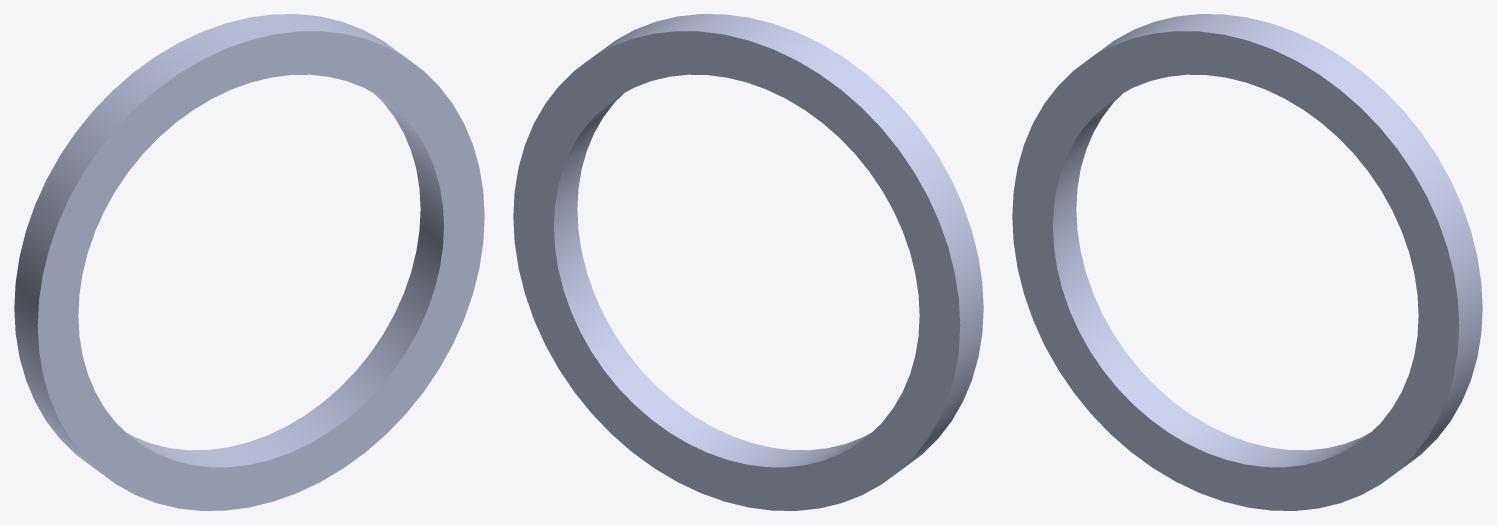
File: MCPSplayFreeSpacer.obj
3 views of the same model, side by side, from view 1: azimuth 30°, elevation 25°; view 2: azimuth 150°, elevation 25°; view 3: azimuth 330°, elevation 25° (orthographic).
Visible parts, largest first — view 1: mesh0, mesh1, mesh3; view 2: mesh2, mesh1, mesh3; view 3: mesh0, mesh1, mesh3.
Part boxes in pixels (x1=…): mesh0: x1=37, y1=31, x2=484, y2=510; mesh1: x1=14, y1=14, x2=404, y2=476; mesh3: x1=126, y1=93, x2=443, y2=467; mesh2: x1=513, y1=31, x2=960, y2=510; mesh1: x1=593, y1=14, x2=983, y2=476; mesh3: x1=554, y1=93, x2=871, y2=467; mesh0: x1=1012, y1=31, x2=1459, y2=510; mesh1: x1=1092, y1=14, x2=1482, y2=476; mesh3: x1=1053, y1=93, x2=1370, y2=467.
Bounding box in the file's own units: 0.011 × 0.011 × 0.001.
